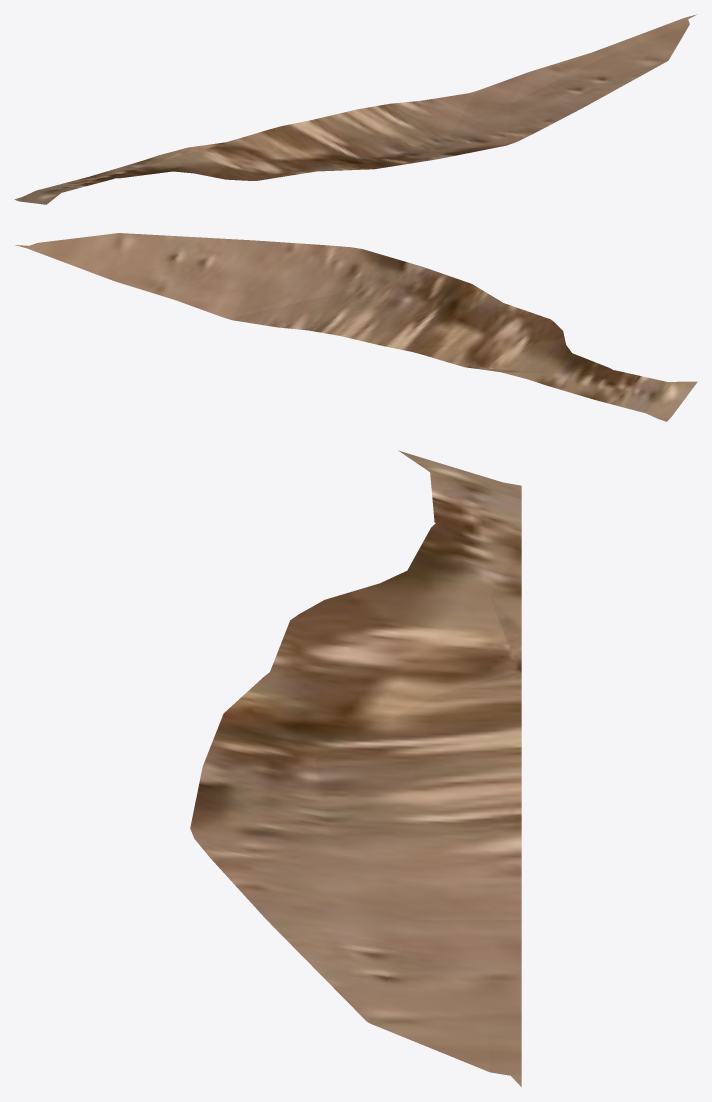
The picture shows the model from 3 angles, top to bottom: view 1: azimuth 30°, elevation 25°; view 2: azimuth 150°, elevation 25°; view 3: azimuth 270°, elevation 25°; orthographic projection. The views are drawn at different scales.
Bounding box in the file's own units: 0.5075 × 0.0164 × 0.1116.
Materials: 1 (1 with a texture image).
